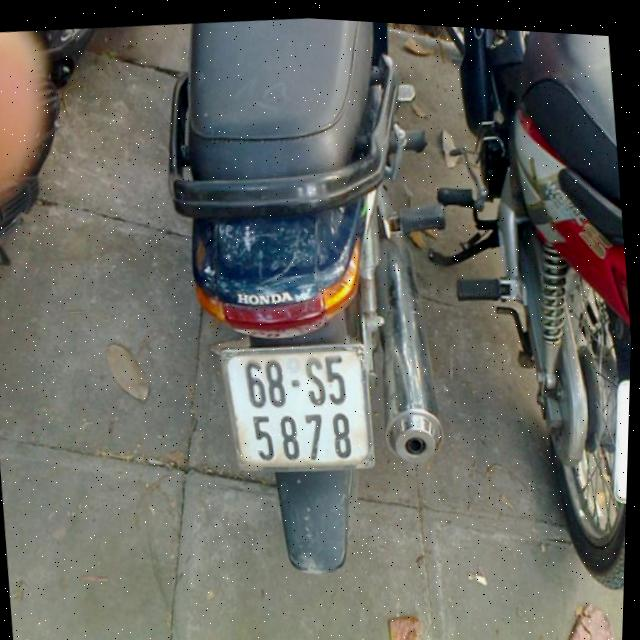motorcycle: (140, 9, 489, 621), (417, 26, 640, 606)
plate: (209, 330, 381, 486)
